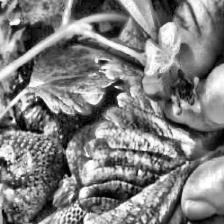Anthracnose Fruit Rot: (9, 145, 36, 177)
